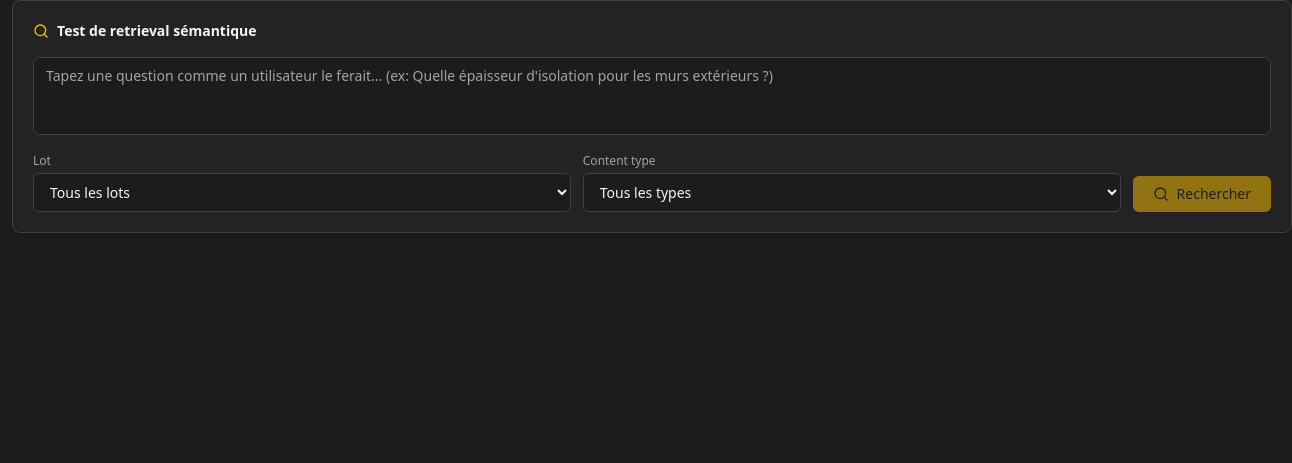
Test: RetrievalPlayground — rendu d'un résultat › n'affiche aucun mot-clé quand keywords est vide
Type "épaisseur isolation" into the text box at coordinates (652, 96), box [33,57,1271,135]
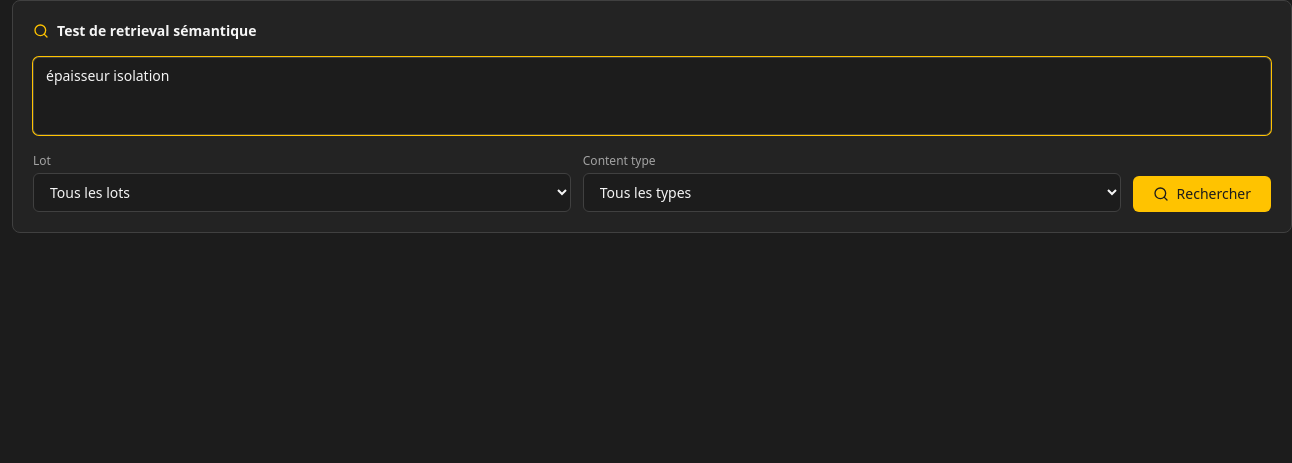
Click the button "Rechercher" at coordinates (1202, 194), box [1133,176,1271,212]
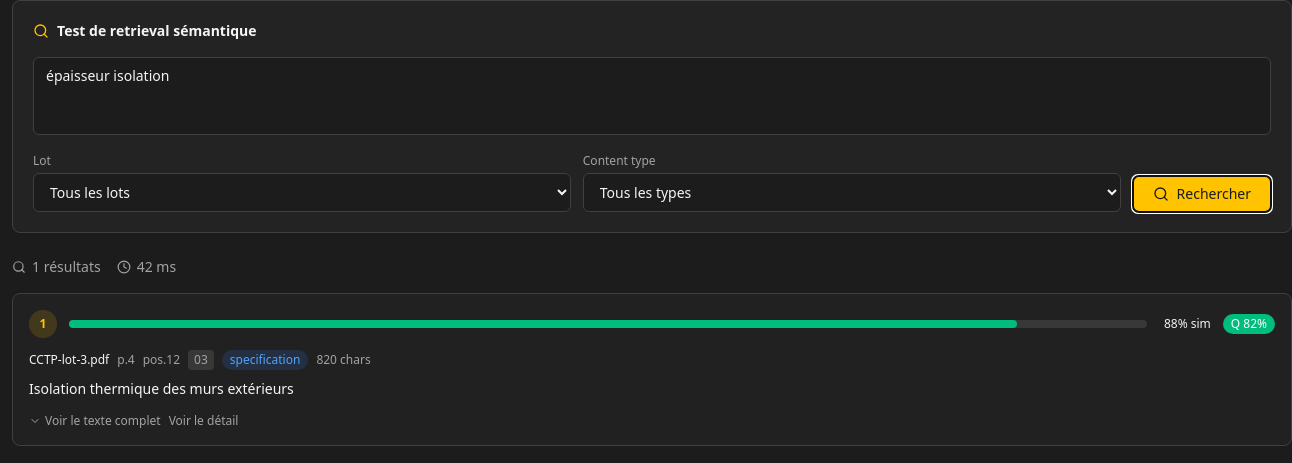
Result: the text "CCTP-lot-3.pdf" is shown at [29,352,109,368]
